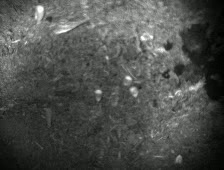corn: (31, 4, 47, 23), (92, 88, 106, 104), (120, 73, 134, 89), (127, 84, 141, 99), (172, 152, 186, 167)
